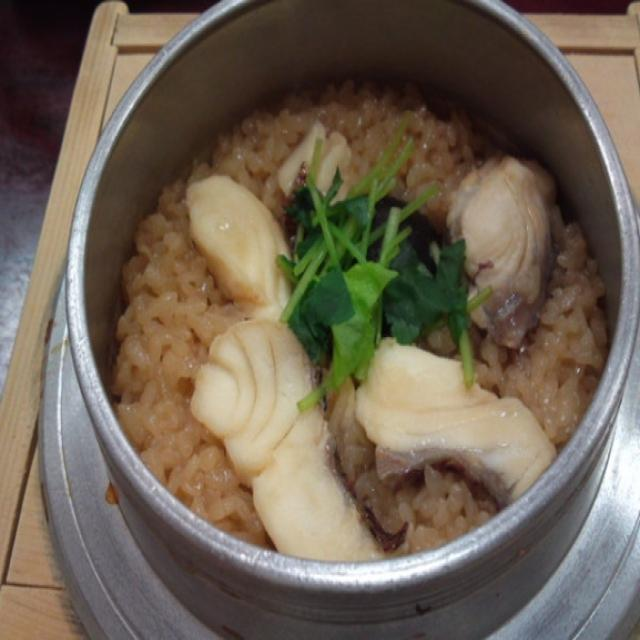猪肉菜式: (99, 188, 524, 558)
